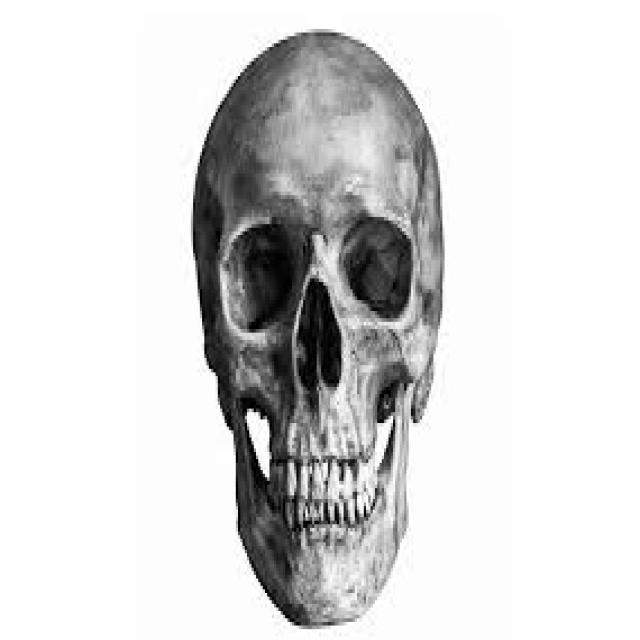skull: (185, 24, 459, 632)
